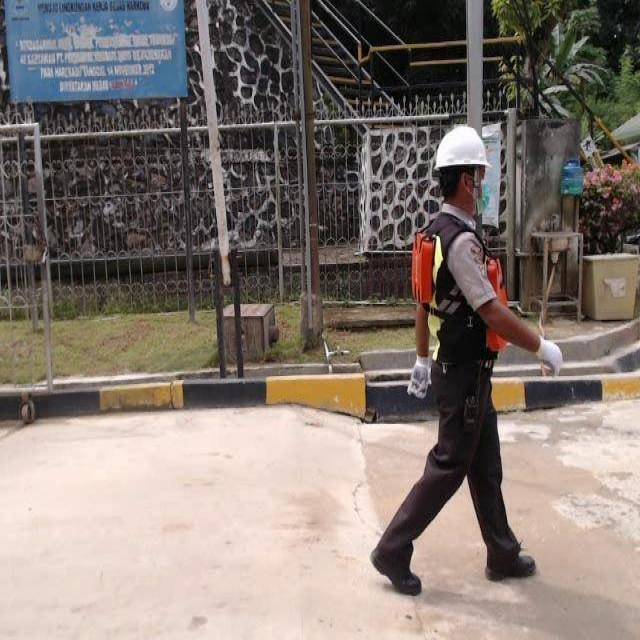Vest: (407, 229, 518, 356)
